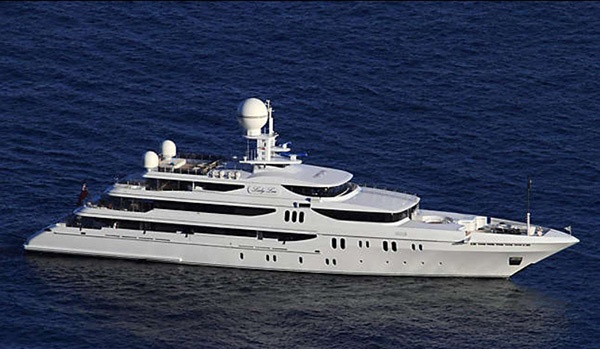yacht: (20, 95, 573, 276)
